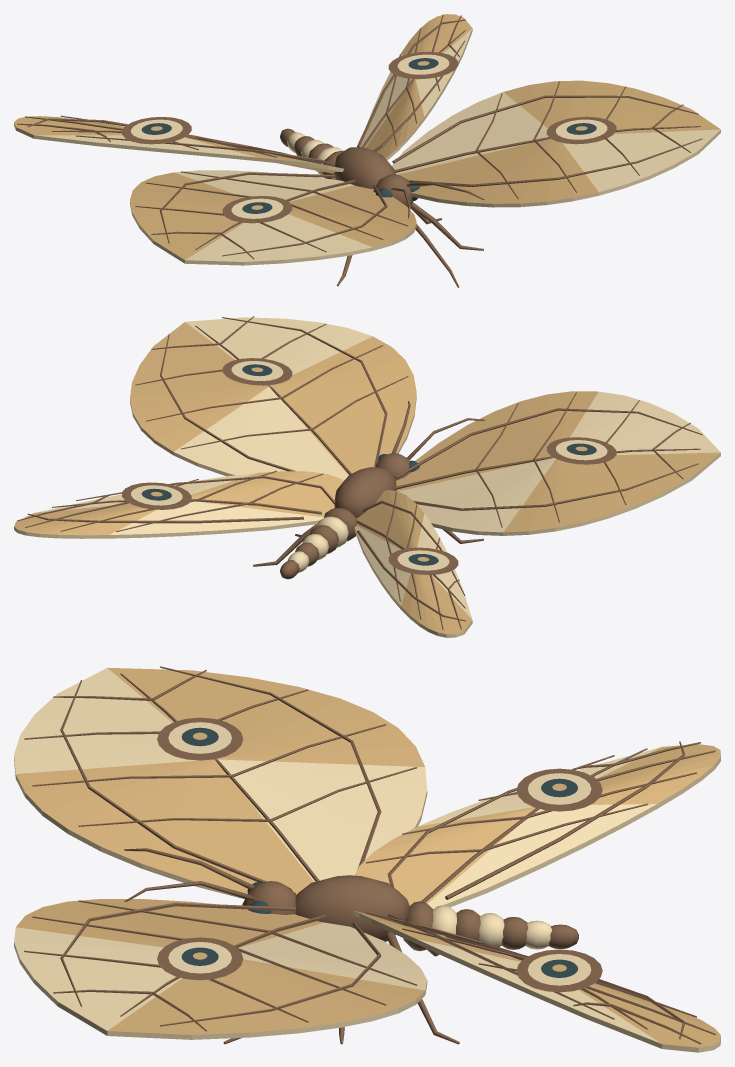
The model's file is kalligramma.glb.
The picture shows the model from 3 angles, top to bottom: view 1: azimuth 30°, elevation 25°; view 2: azimuth 150°, elevation 25°; view 3: azimuth 270°, elevation 25°; orthographic projection. The views are drawn at different scales.
Visible parts, largest first — view 1: four-volumetric-rounded-wings, branched-wing-veins, four-inlaid-eye-spots, head-thorax-and-segmented-abdomen, six-legs-two-antennae-and-proboscis; view 2: four-volumetric-rounded-wings, branched-wing-veins, four-inlaid-eye-spots, head-thorax-and-segmented-abdomen, six-legs-two-antennae-and-proboscis; view 3: four-volumetric-rounded-wings, branched-wing-veins, four-inlaid-eye-spots, head-thorax-and-segmented-abdomen, six-legs-two-antennae-and-proboscis.
Boxes of the visible parts, bbox=[...] form: four-volumetric-rounded-wings: bbox=[14, 14, 720, 265]; branched-wing-veins: bbox=[17, 14, 702, 259]; four-inlaid-eye-spots: bbox=[122, 51, 616, 223]; head-thorax-and-segmented-abdomen: bbox=[280, 128, 419, 207]; six-legs-two-antennae-and-proboscis: bbox=[330, 177, 484, 287]; four-volumetric-rounded-wings: bbox=[14, 317, 720, 637]; branched-wing-veins: bbox=[17, 316, 702, 629]; four-inlaid-eye-spots: bbox=[122, 358, 616, 574]; head-thorax-and-segmented-abdomen: bbox=[280, 453, 419, 579]; six-legs-two-antennae-and-proboscis: bbox=[253, 401, 484, 566]; four-volumetric-rounded-wings: bbox=[14, 667, 720, 1052]; branched-wing-veins: bbox=[24, 666, 715, 1044]; four-inlaid-eye-spots: bbox=[157, 717, 602, 992]; head-thorax-and-segmented-abdomen: bbox=[242, 875, 578, 950]; six-legs-two-antennae-and-proboscis: bbox=[124, 848, 459, 1044].
Size of the model in its own units: 0.1104 by 0.0215 by 0.0905.
